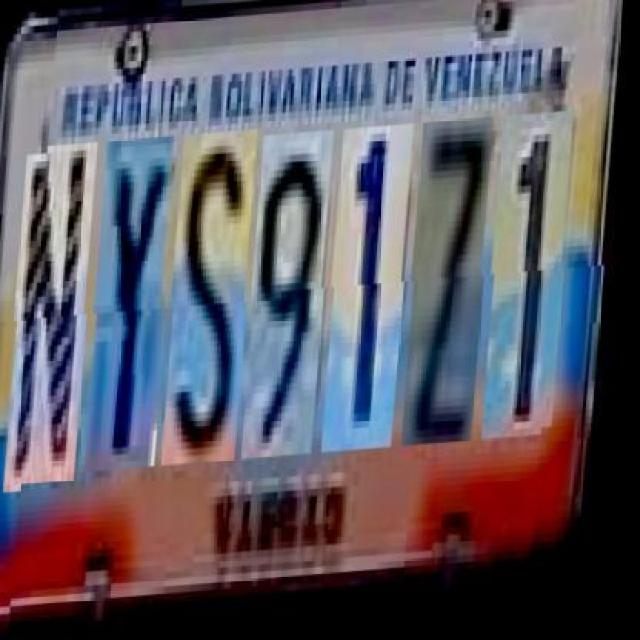1: (329, 131, 420, 458), (489, 121, 580, 448)
9: (249, 136, 340, 464)
n: (11, 144, 104, 487)
s: (168, 133, 264, 470)
y: (92, 138, 183, 474)
z: (409, 125, 500, 453)
